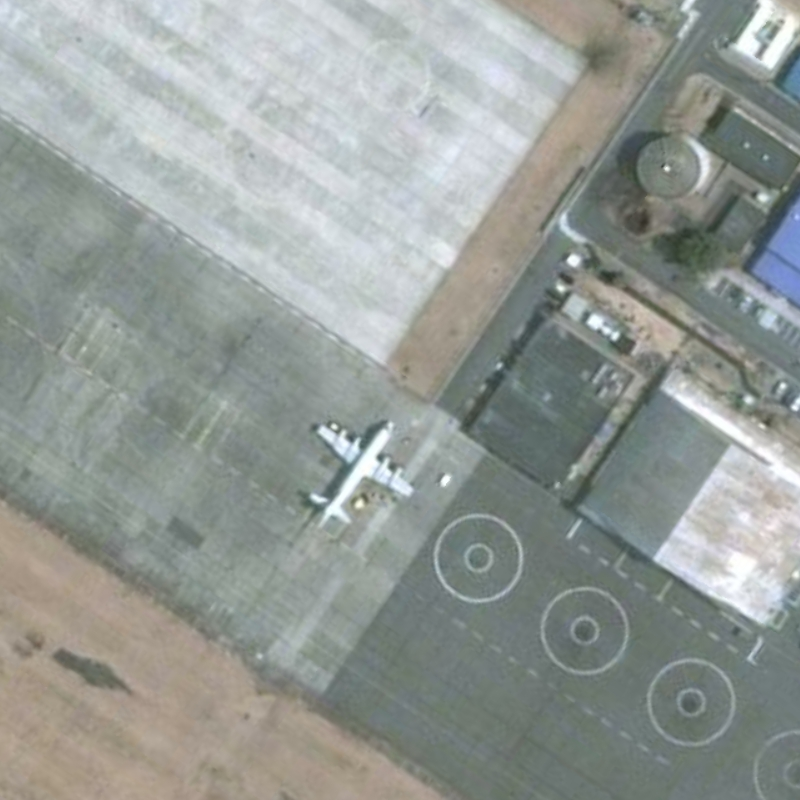A9: (297, 408, 421, 539)
